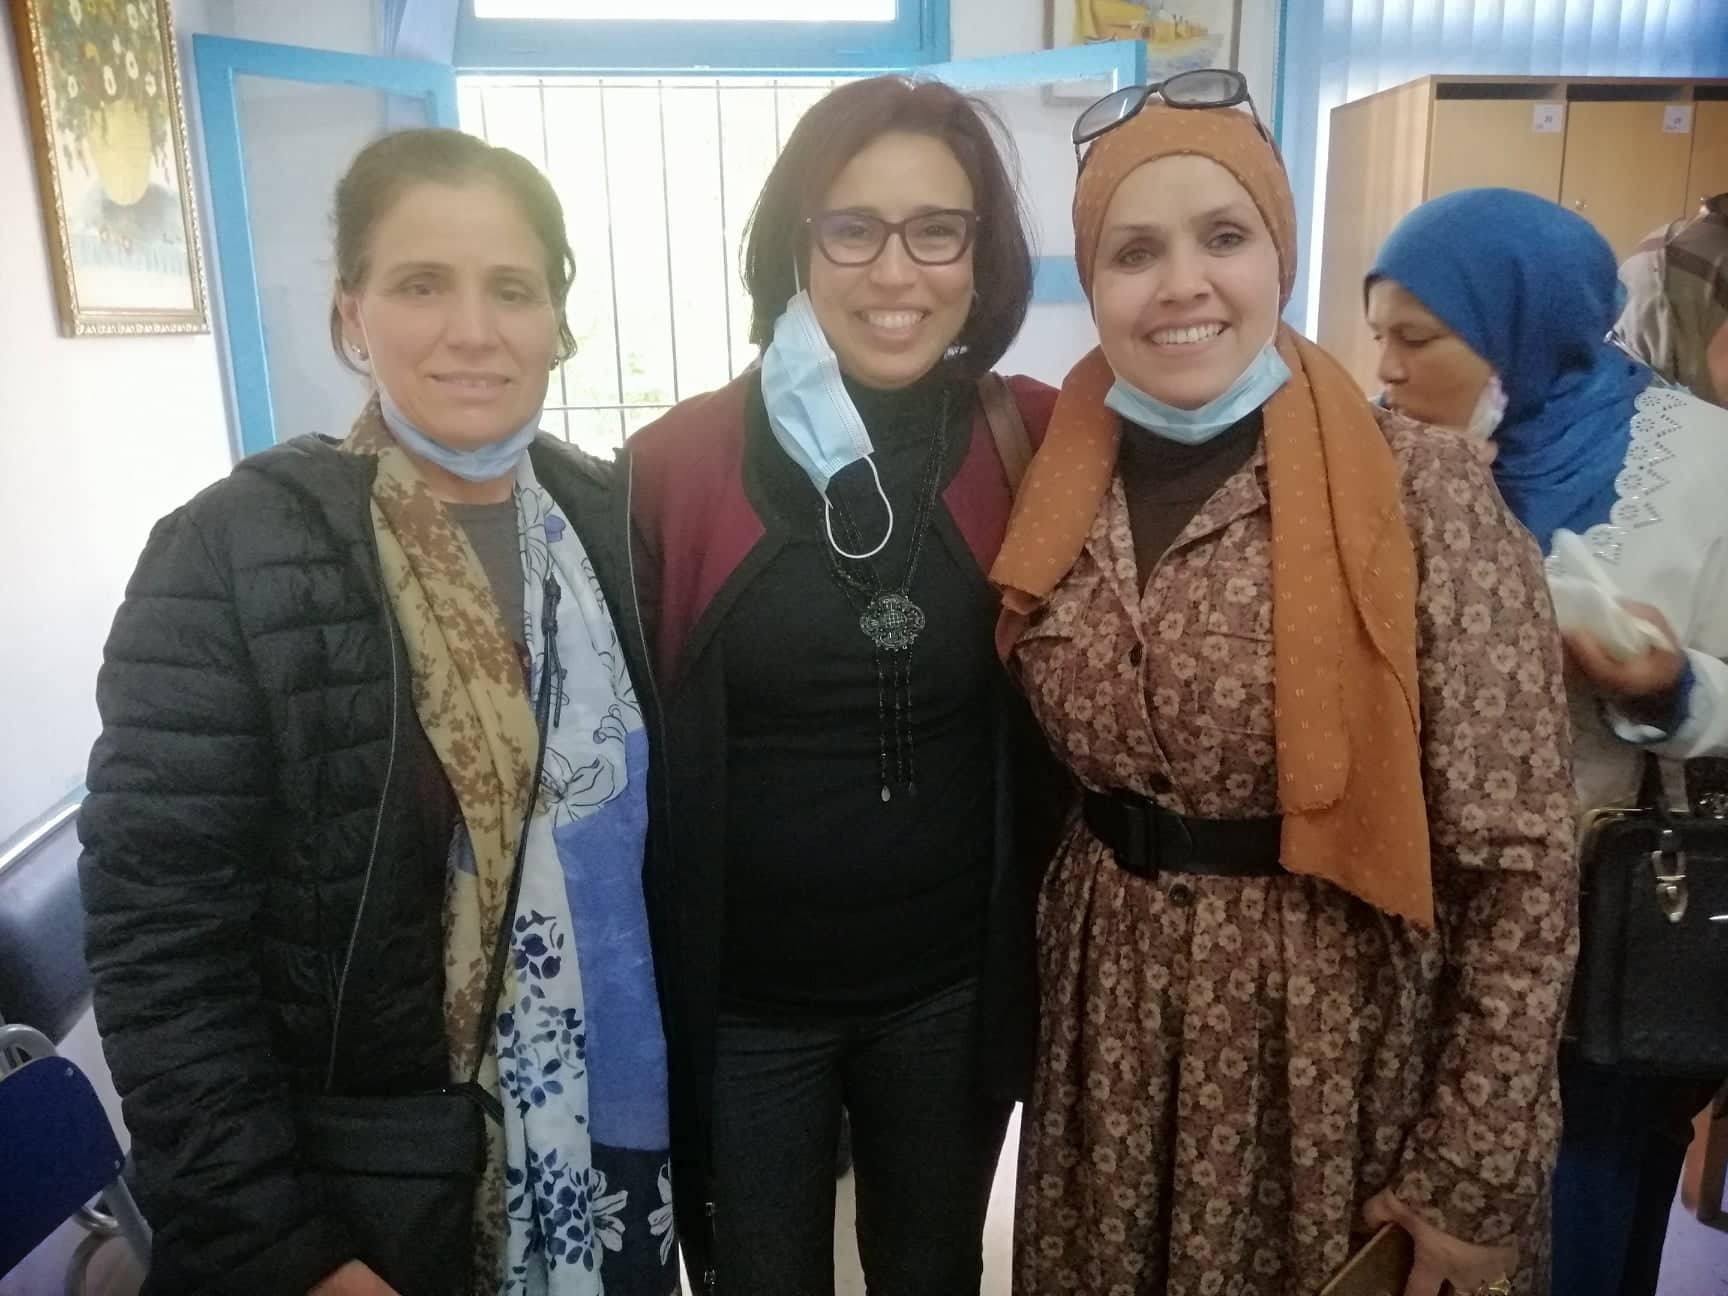mask_weared_incorrect: (332, 256, 575, 481), (776, 199, 992, 440), (1093, 188, 1287, 422)
